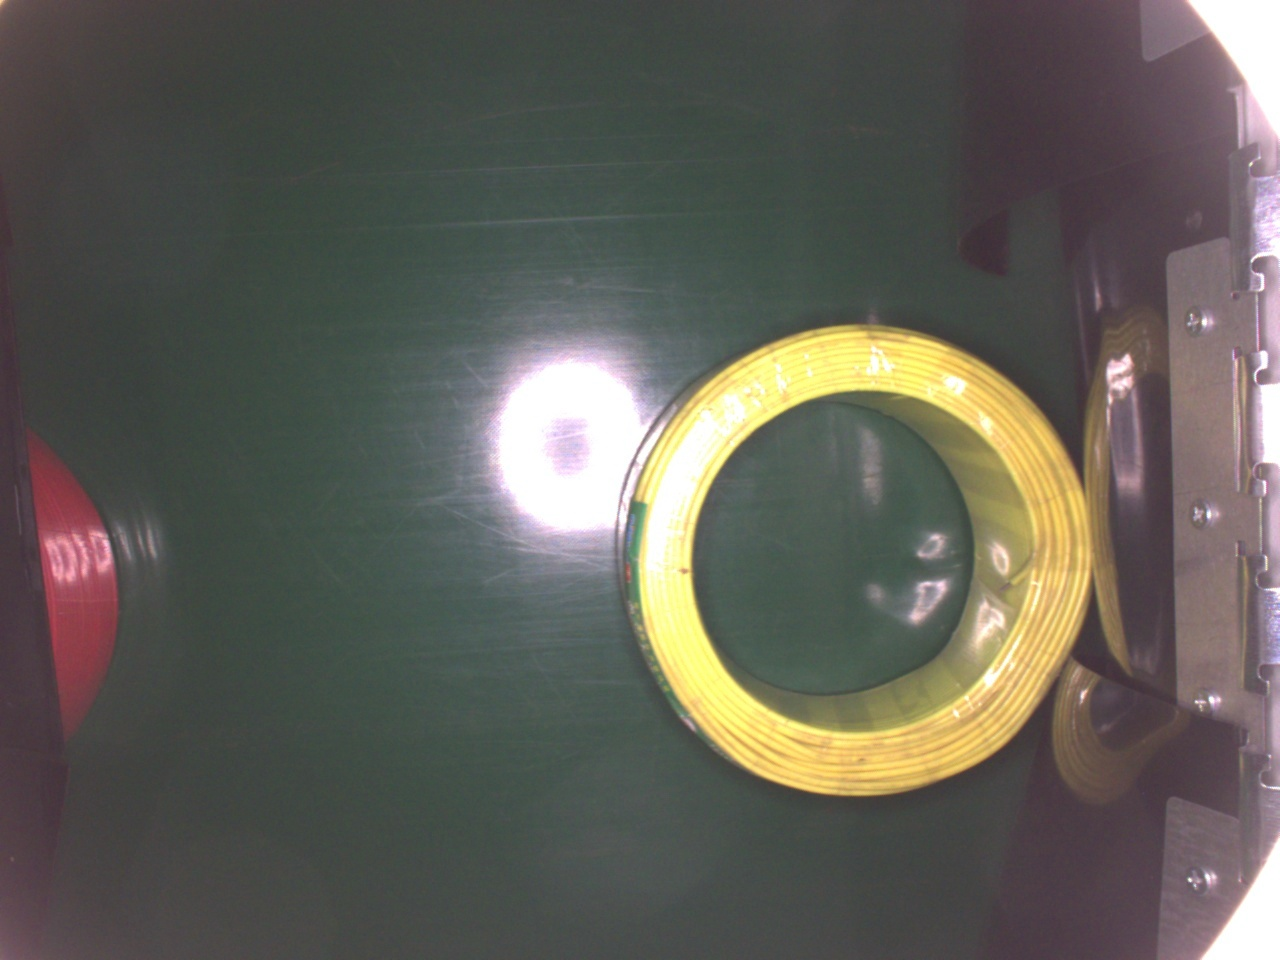yellow: (616, 320, 1090, 794)
